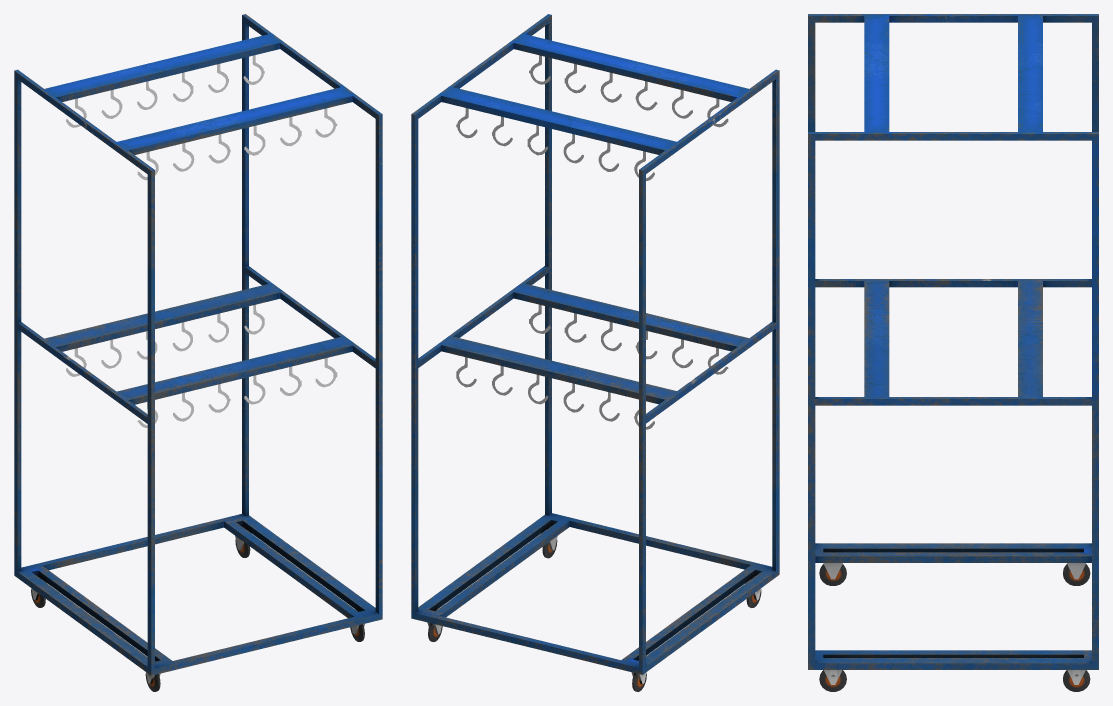
Rendered from rack llantas.FBX.
The picture shows the model from 3 angles, left to right: view 1: azimuth 30°, elevation 25°; view 2: azimuth 150°, elevation 25°; view 3: azimuth 270°, elevation 25°; orthographic projection. The views are drawn at different scales.
Parts seen in each view (by area): view 1: carro, ganchos; view 2: carro, ganchos; view 3: carro.
Part boxes in pixels (x1,y1,x2,y2): carro: [14, 14, 382, 675]; ganchos: [66, 55, 337, 427]; carro: [411, 14, 779, 674]; ganchos: [456, 55, 728, 429]; carro: [808, 14, 1098, 669].
Size of the model in its own units: 46.09 by 101 by 47.24.
1 material, 1 textured.
